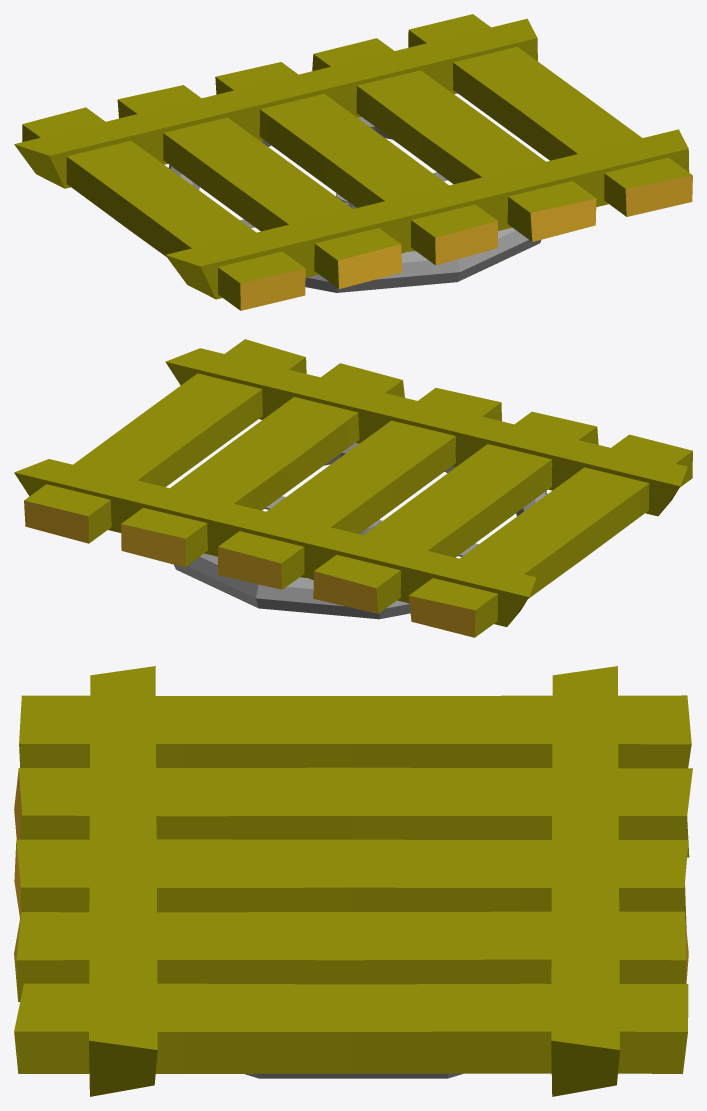
Rendered from flying_platform.glb.
3 views of the same model, one above another, from view 1: azimuth 30°, elevation 25°; view 2: azimuth 150°, elevation 25°; view 3: azimuth 270°, elevation 25° (orthographic). The views are drawn at different scales.
Parts seen in each view (by area): view 1: flying_platform, Torus; view 2: flying_platform, Torus; view 3: flying_platform, Torus.
Part boxes in pixels (x1,y1,x2,y2): flying_platform: (14,14,692,310); Torus: (168,117,541,292); flying_platform: (14,339,692,637); Torus: (174,442,547,619); flying_platform: (14,666,692,1096); Torus: (245,1073,463,1078).
Size of the model in its own units: 3.93 by 0.5107 by 2.94.
